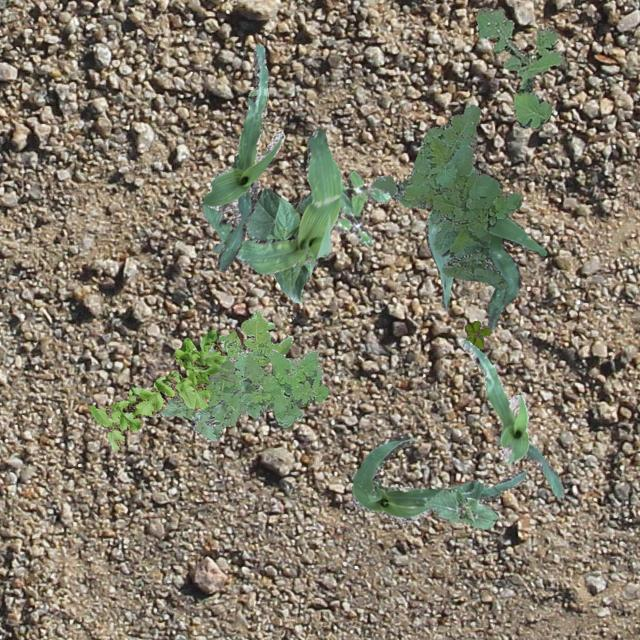crop: (200, 125, 342, 274), (202, 44, 284, 270), (460, 340, 562, 498), (350, 433, 526, 522), (424, 210, 546, 330), (243, 186, 317, 302), (423, 488, 498, 528)
weed: (370, 102, 520, 288), (148, 344, 328, 440), (88, 328, 226, 451), (474, 6, 562, 128), (332, 170, 390, 246), (218, 310, 292, 364), (464, 320, 489, 348)
